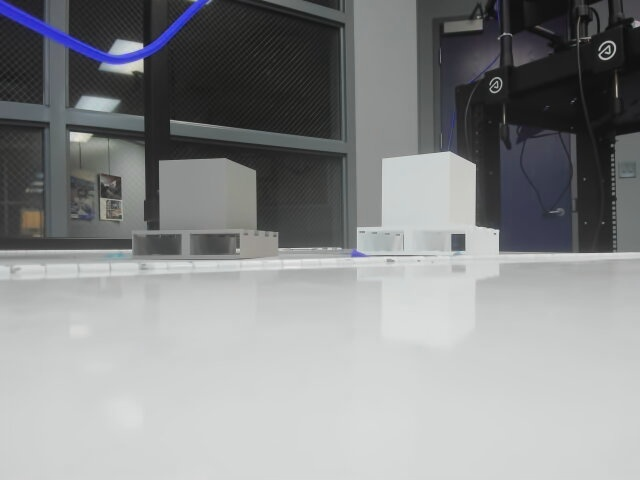grey pallet: (133, 146, 284, 262)
white pallet: (352, 139, 501, 270)
